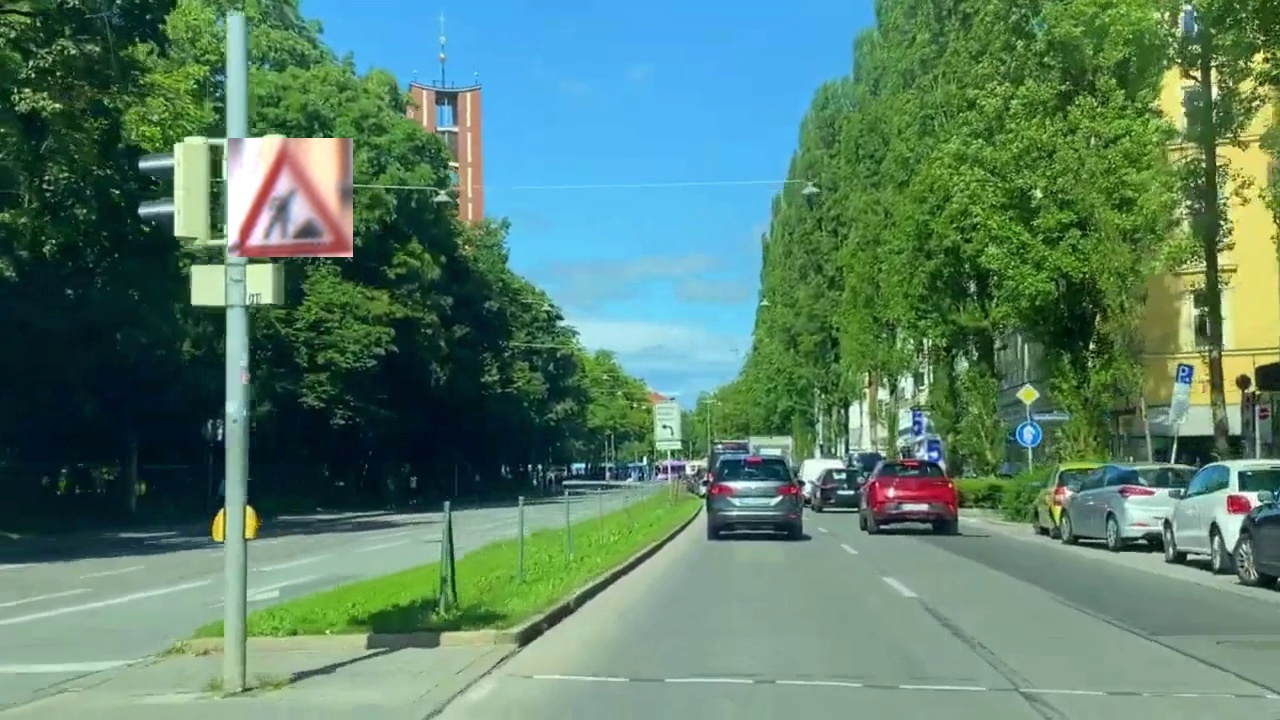Road work: (228, 138, 353, 257)
